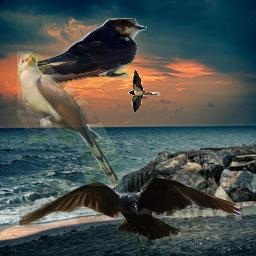Crow: (19, 175, 243, 252)
Cuckoo: (17, 51, 121, 186)
Swallow: (28, 18, 147, 84), (128, 69, 161, 113)
